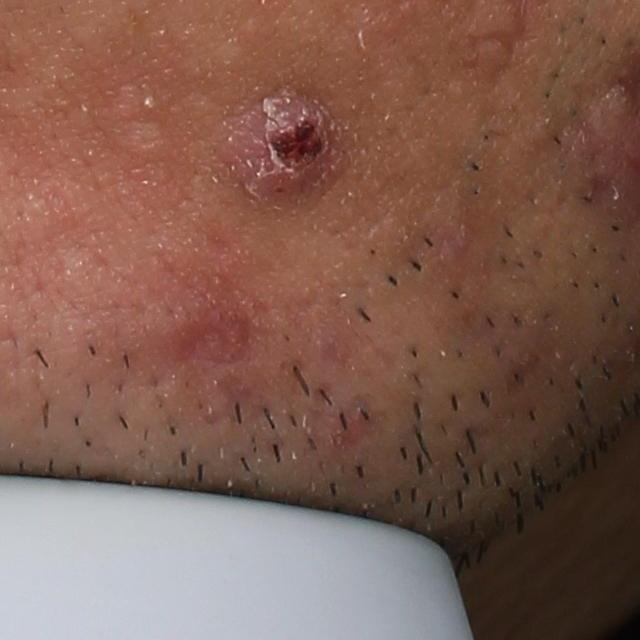hypertrophic_scar: (112, 83, 179, 166)
papule: (232, 74, 346, 214)
